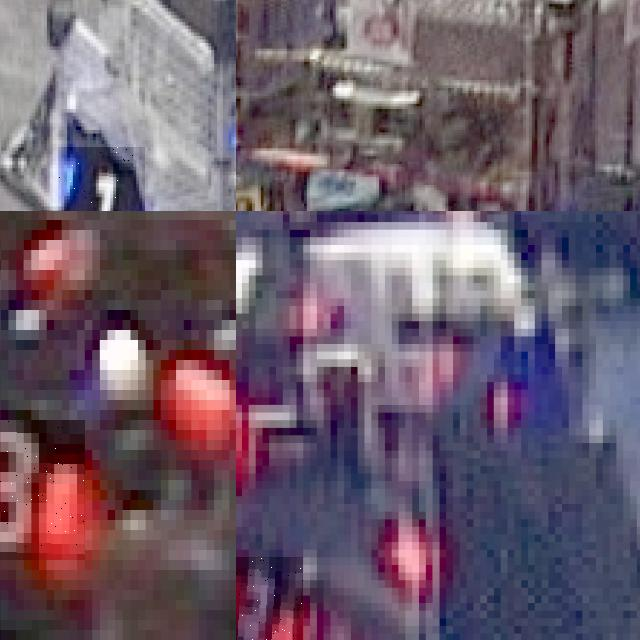B1: (58, 147, 144, 211)
R3: (0, 420, 84, 560), (236, 557, 303, 640)
